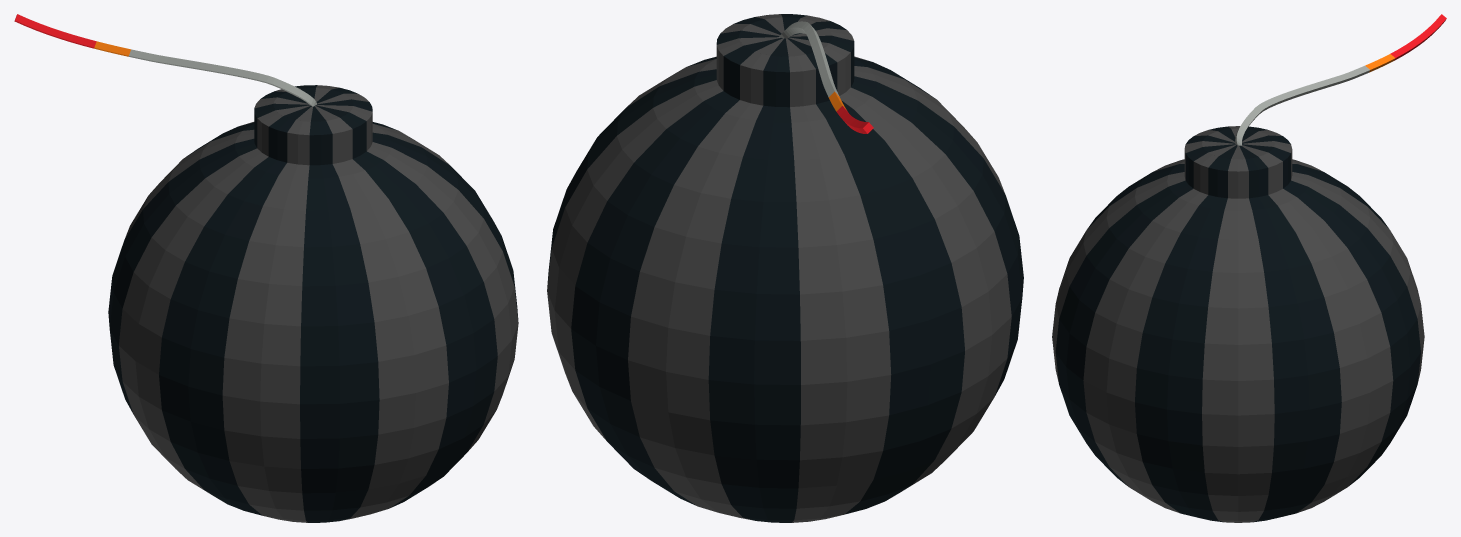
The model's file is bombita.fbx.
3 views of the same model, side by side, from view 1: azimuth 30°, elevation 25°; view 2: azimuth 150°, elevation 25°; view 3: azimuth 270°, elevation 25° (orthographic). The views are drawn at different scales.
Visible parts, largest first — view 1: Boom; view 2: Boom; view 3: Boom.
Part boxes in pixels (x1=…): Boom: x1=14, y1=14, x2=518, y2=522; Boom: x1=547, y1=14, x2=1023, y2=522; Boom: x1=1052, y1=14, x2=1446, y2=522.
Bounding box in the file's own units: 205 × 243 × 212.
1 material, 1 textured.
